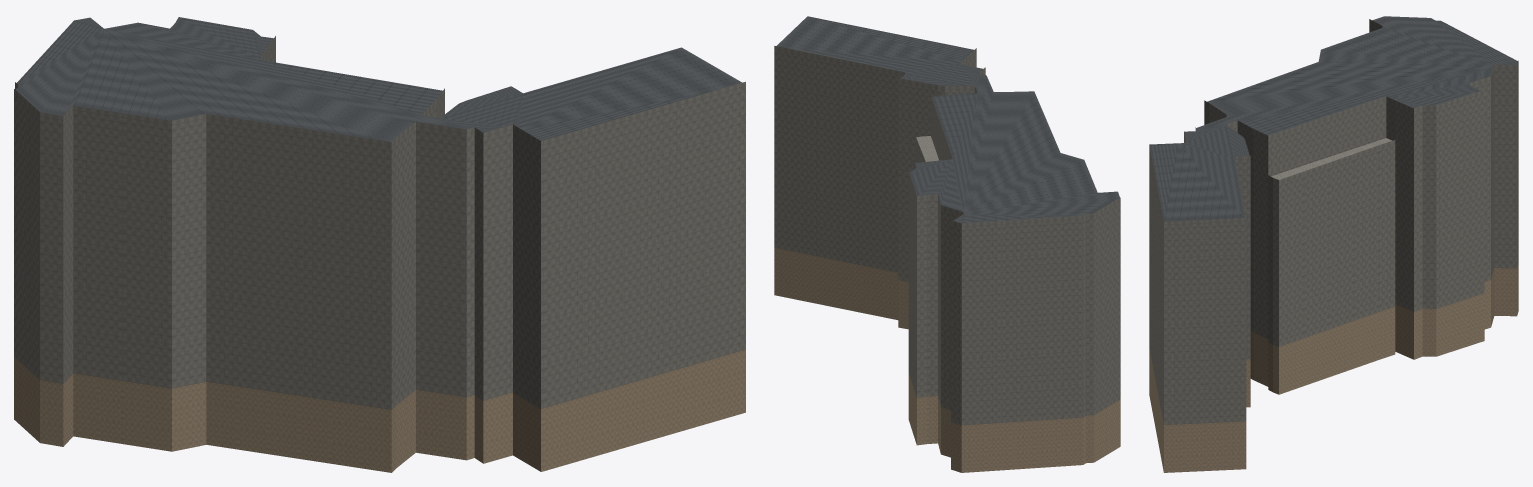
The model's file is bld_c3_-2_561.gltf.
The picture shows the model from 3 angles, left to right: view 1: azimuth 30°, elevation 25°; view 2: azimuth 150°, elevation 25°; view 3: azimuth 270°, elevation 25°; orthographic projection. The views are drawn at different scales.
Visible parts, largest first — view 1: bld_c3_-2_561; view 2: bld_c3_-2_561; view 3: bld_c3_-2_561.
Part boxes in pixels (<box>): bld_c3_-2_561: <box>14,17,745,472</box>; bld_c3_-2_561: <box>774,16,1120,472</box>; bld_c3_-2_561: <box>1149,16,1518,472</box>.
Size of the model in its own units: 47.47 by 27.08 by 35.7.
Materials: 5 (5 with a texture image).
